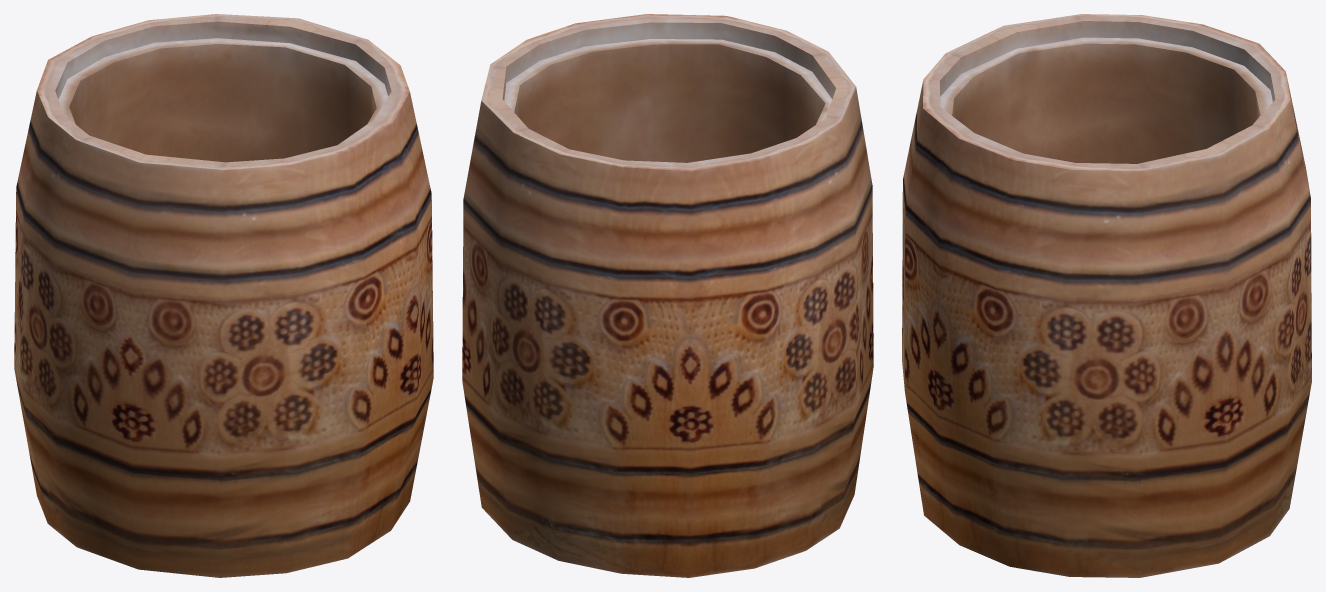
Rendered from Small_cask.obj.
3 views of the same model, side by side, from view 1: azimuth 30°, elevation 25°; view 2: azimuth 150°, elevation 25°; view 3: azimuth 270°, elevation 25° (orthographic).
Visible parts, largest first — view 1: Small_cask; view 2: Small_cask; view 3: Small_cask.
Boxes of the visible parts, box(x1,y1,x2,y2) form: Small_cask: box(14, 14, 433, 577); Small_cask: box(462, 14, 873, 577); Small_cask: box(902, 14, 1311, 577).
Bounding box in the file's own units: 10.97 × 11.98 × 10.92.
